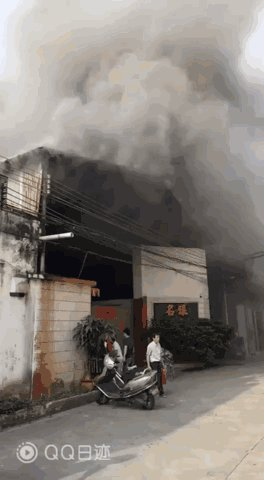smoke: (15, 8, 258, 244)
